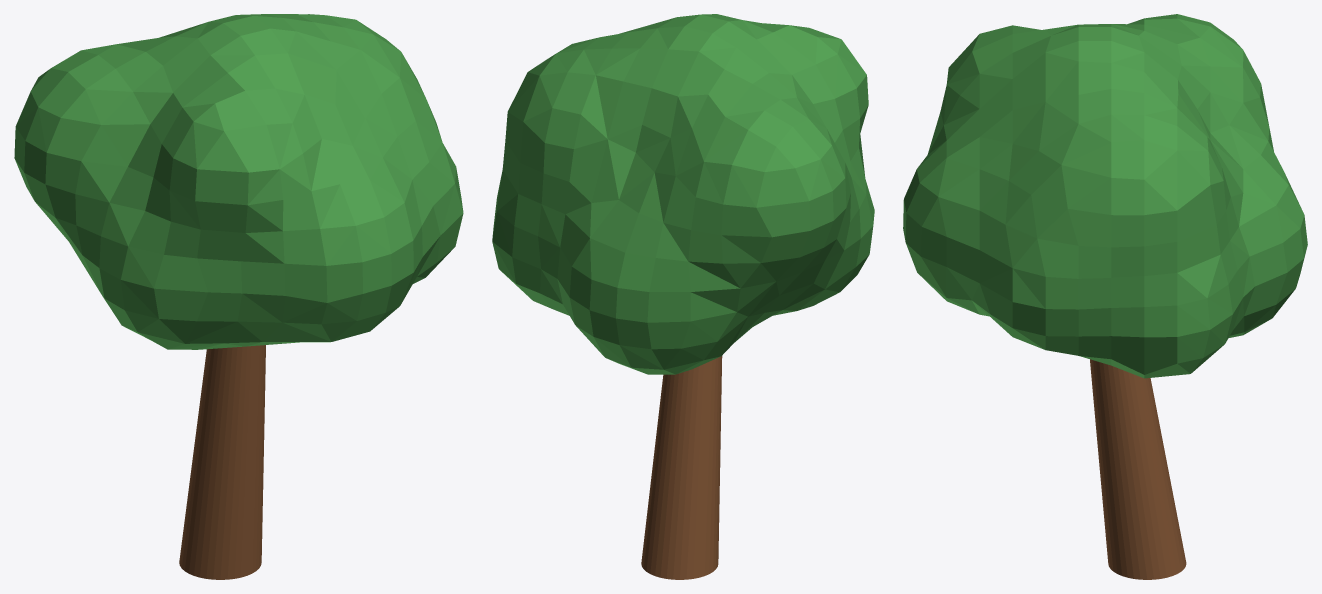
Rendered from ufo_tree2.fbx.
The picture shows the model from 3 angles, left to right: view 1: azimuth 30°, elevation 25°; view 2: azimuth 150°, elevation 25°; view 3: azimuth 270°, elevation 25°; orthographic projection. The views are drawn at different scales.
Parts seen in each view (by area): view 1: Mball.010, Cylinder.001; view 2: Mball.010, Cylinder.001; view 3: Mball.010, Cylinder.001.
Part boxes in pixels (x1,y1,x2,y2): Mball.010: [14, 14, 463, 349]; Cylinder.001: [179, 345, 265, 579]; Mball.010: [492, 14, 874, 374]; Cylinder.001: [641, 356, 722, 579]; Mball.010: [903, 14, 1307, 378]; Cylinder.001: [1090, 359, 1186, 579].
Size of the model in its own units: 301 by 435 by 302.
